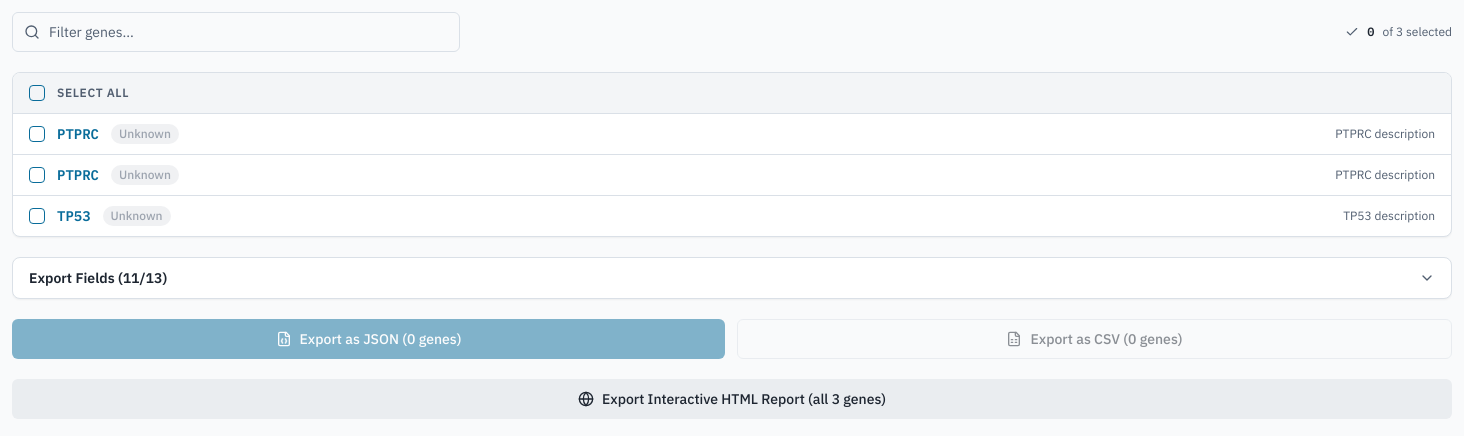
Scenario: ReportBuilder selection is index-safe › treats two rows with the same symbol as independently selectable
// Click the first gene-row checkbox only.
What coordinates should you click on to do the following:
click the 2nd checkbox
I would click on:
 (37, 134)
Its box is [29,126,45,142].
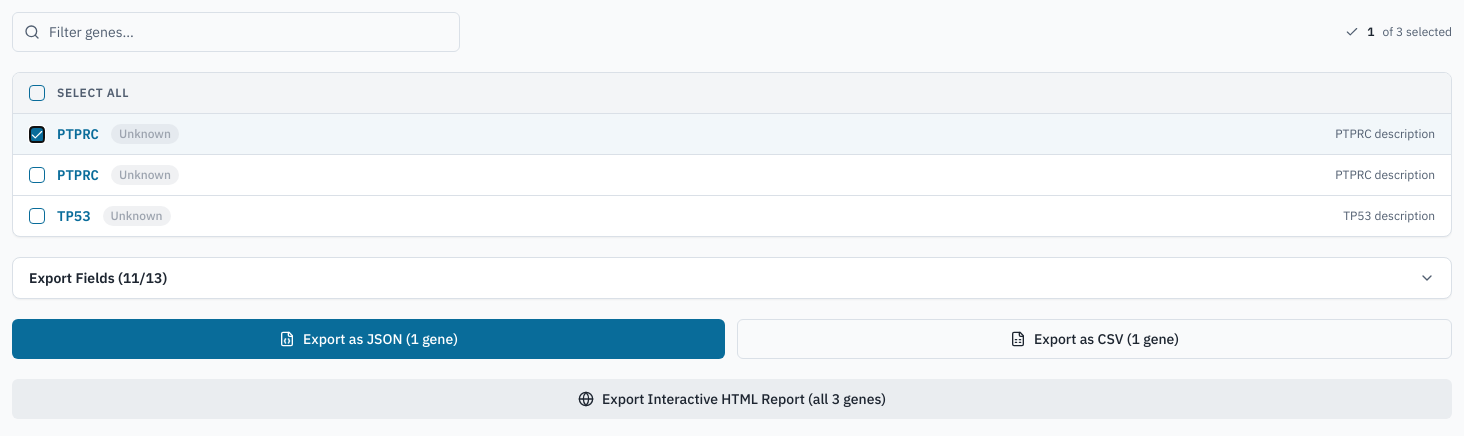
Now the text "1" is shown, box [1367,24,1374,40]
What coordinates should you click on to do the following:
click the 3rd checkbox
I would click on:
 (37, 175)
Its box is [29,167,45,183].
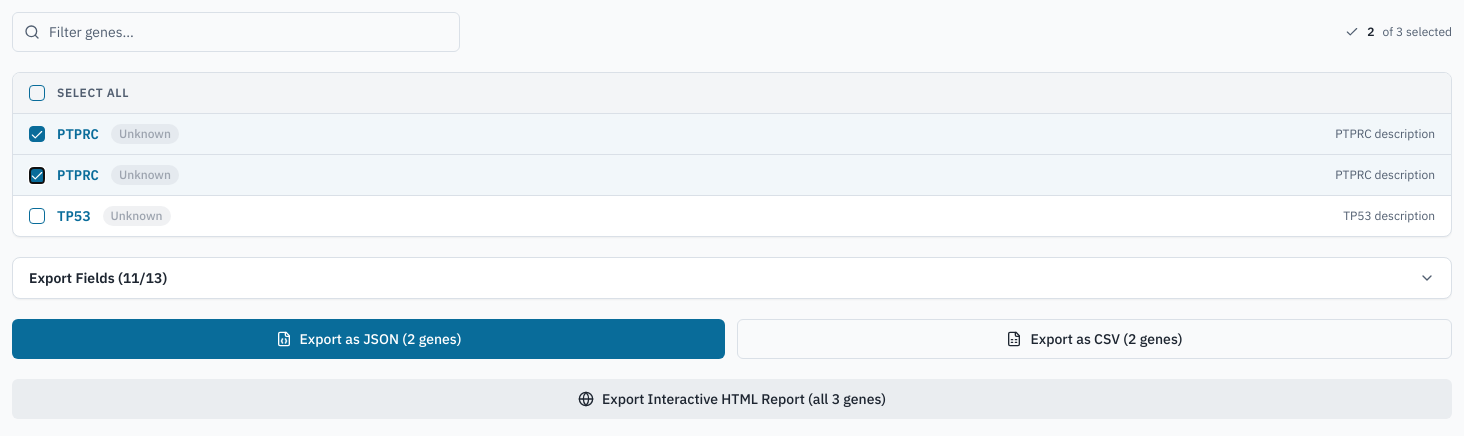
Now the text "2" is shown, box [1367,24,1374,40]
